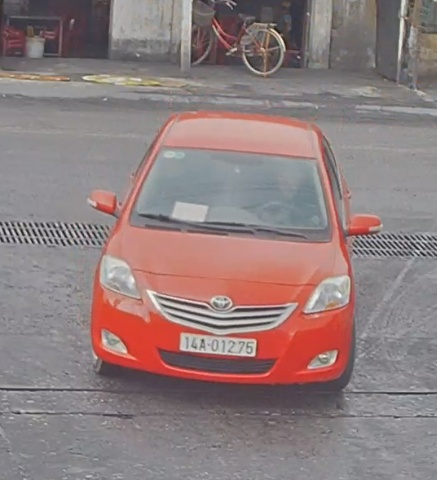vehicle plate: (168, 329, 262, 359)
